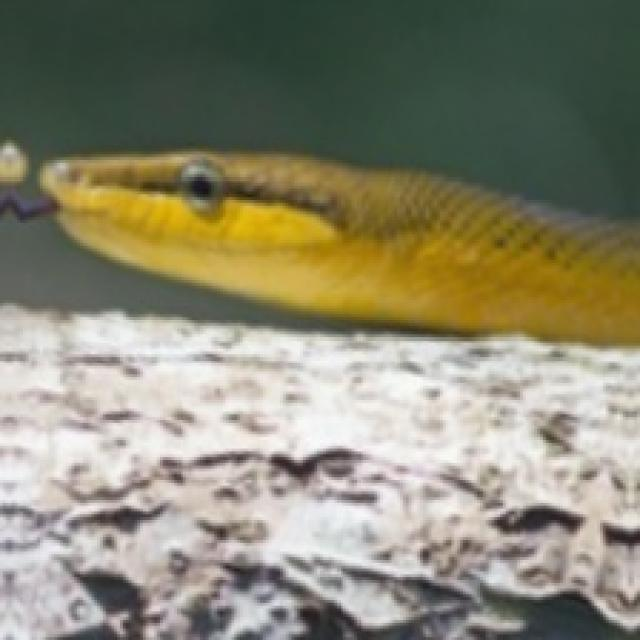red-tailed green ratsnake: (40, 151, 637, 343)
